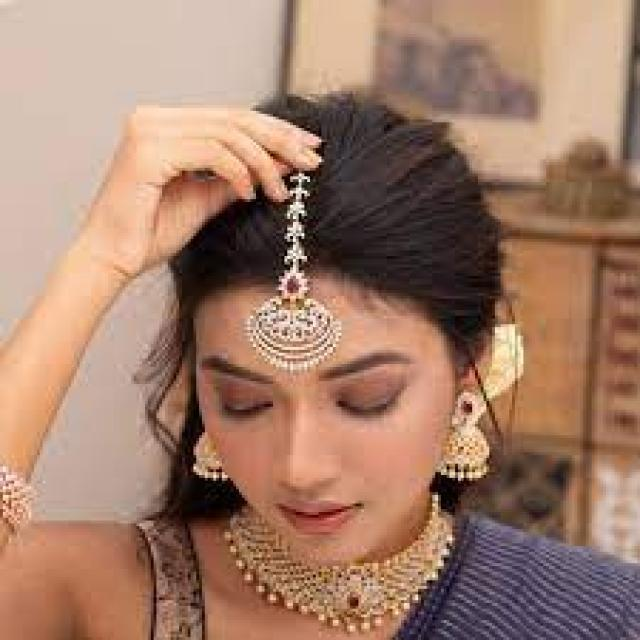Earring: (436, 385, 506, 493), (182, 417, 238, 495)
